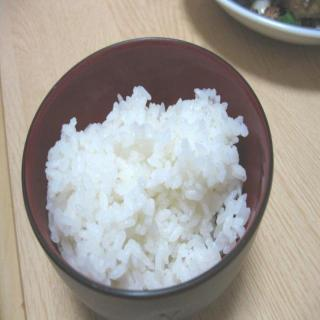Nasi: (43, 84, 253, 292)
